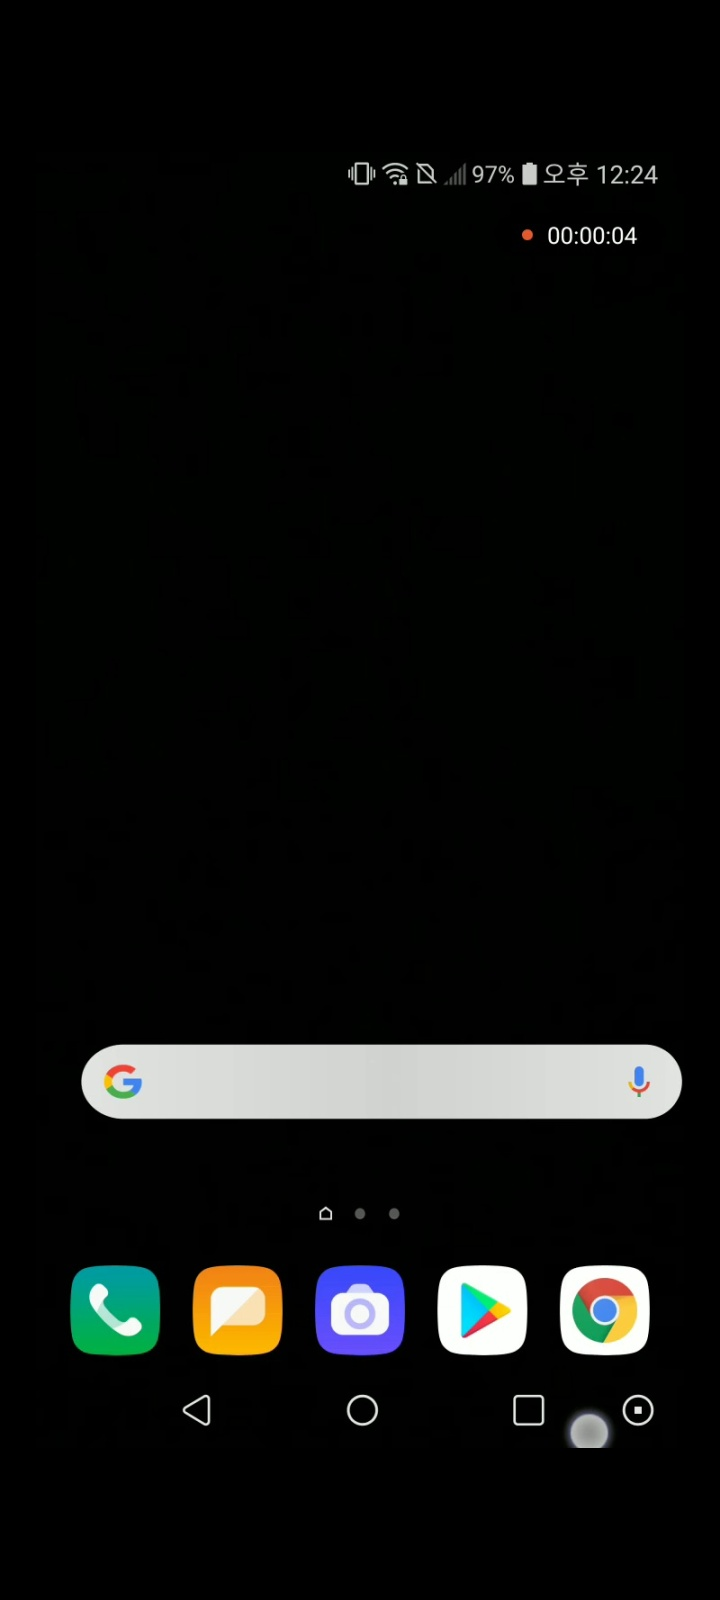Cursor: (567, 1403, 612, 1448)
